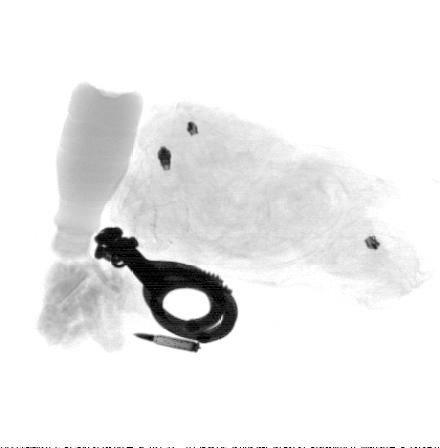Bullet: (134, 333, 200, 352)
HandCuffs: (94, 225, 238, 343)
